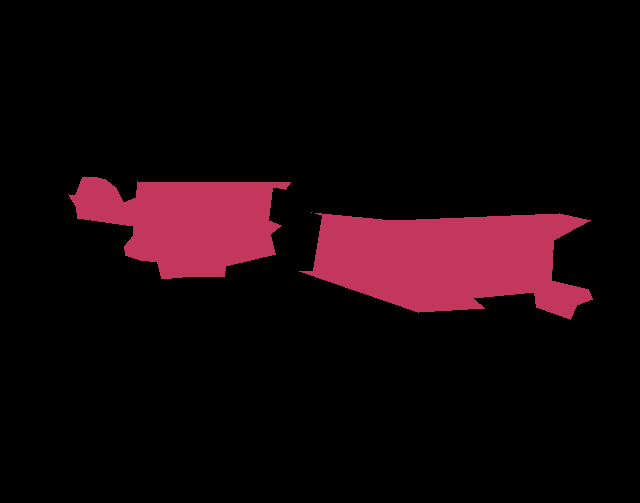Airplane: (299, 212, 593, 319), (68, 177, 291, 279)
